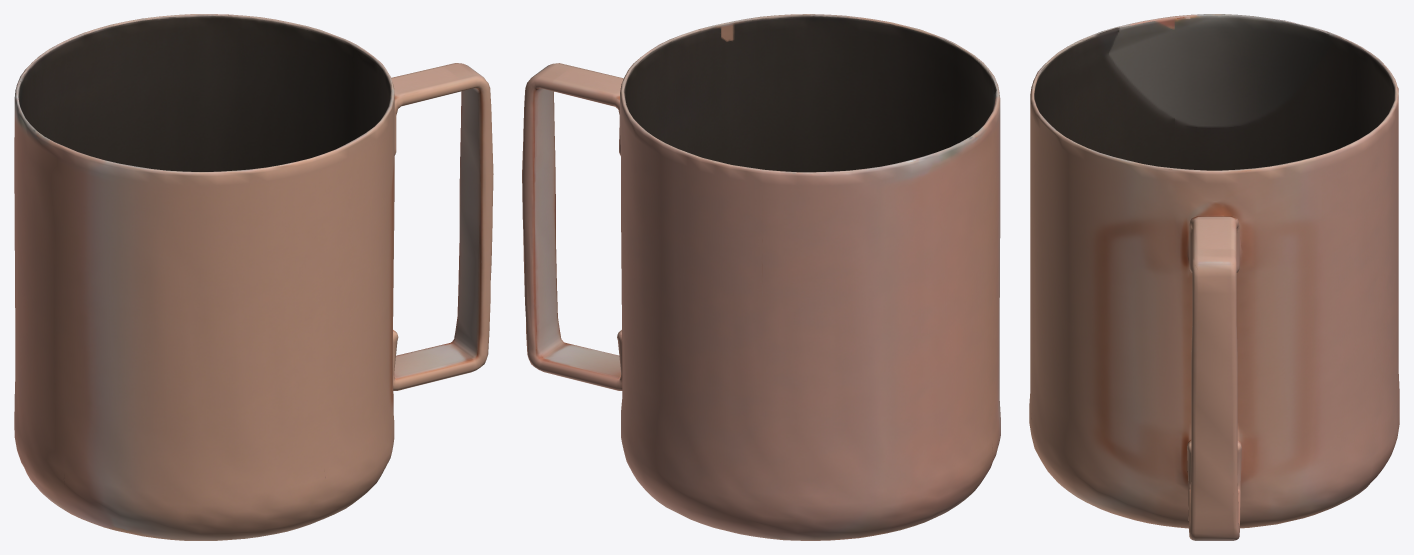
File: Copper_Mug_5InchesTall_0215214319_texture.glb
The picture shows the model from 3 angles, left to right: view 1: azimuth 30°, elevation 25°; view 2: azimuth 150°, elevation 25°; view 3: azimuth 270°, elevation 25°; orthographic projection. The views are drawn at different scales.
Visible parts, largest first — view 1: Mesh_0; view 2: Mesh_0; view 3: Mesh_0.
Part boxes in pixels (bbox=[...]): Mesh_0: bbox=[14, 14, 493, 540]; Mesh_0: bbox=[522, 14, 1000, 540]; Mesh_0: bbox=[1029, 14, 1399, 540].
Size of the model in its own units: 0.155 by 0.127 by 0.1143.
Materials: 1 (1 with a texture image).
